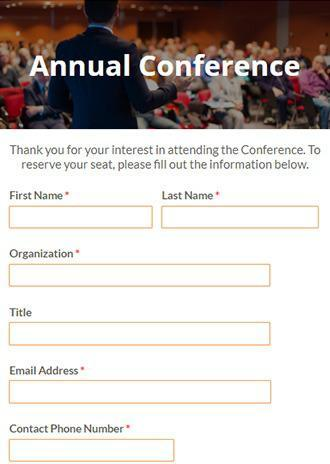input: (11, 380, 273, 405), (10, 264, 271, 289), (11, 323, 270, 347), (8, 438, 177, 463), (10, 207, 155, 231), (163, 208, 319, 228)
label: (7, 420, 134, 438), (8, 366, 86, 380), (8, 191, 73, 205), (9, 249, 79, 262), (159, 191, 223, 204), (8, 306, 36, 322)
